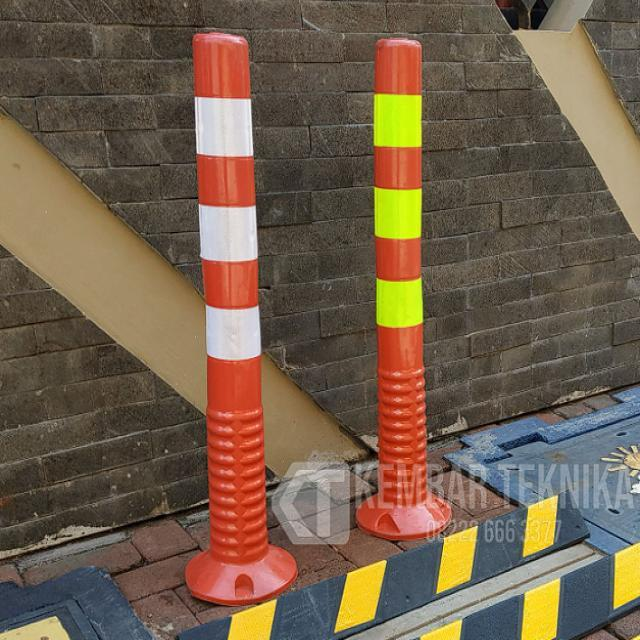obstacle: (189, 26, 272, 598), (371, 34, 428, 524)
